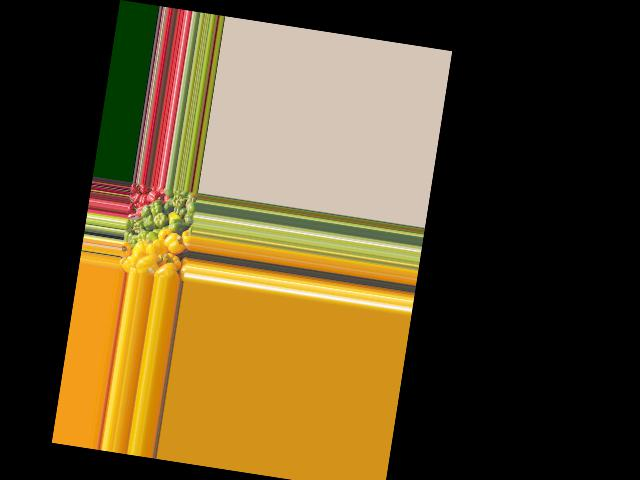bell_pepper: (185, 191, 199, 208)
